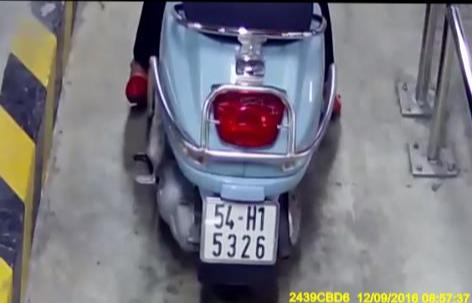LP: (200, 195, 279, 266)
